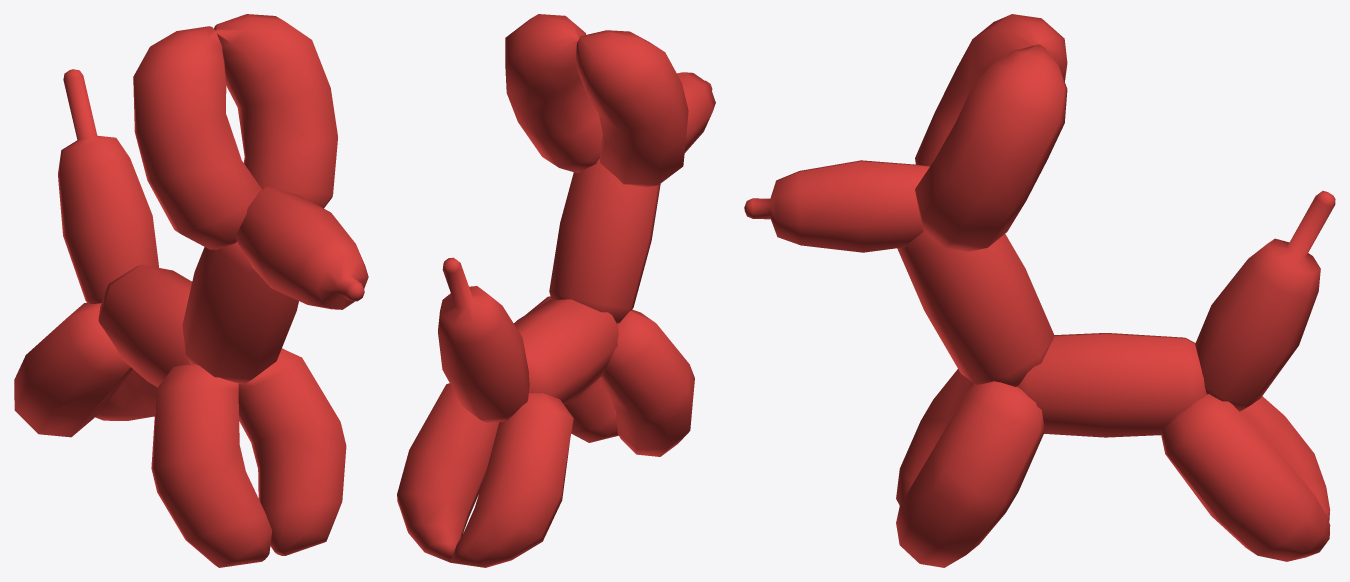
File: BalloonDog_01.fbx
3 renders of one model, left to right at view 1: azimuth 30°, elevation 25°; view 2: azimuth 150°, elevation 25°; view 3: azimuth 270°, elevation 25°, orthographic. The views are drawn at different scales.
Visible parts, largest first — view 1: BalloonDog_01; view 2: BalloonDog_01; view 3: BalloonDog_01.
Boxes of the visible parts, left/top/right/bottom form: BalloonDog_01: left=14, top=14, right=368, bottom=567; BalloonDog_01: left=397, top=14, right=715, bottom=567; BalloonDog_01: left=744, top=14, right=1335, bottom=567.
Size of the model in its own units: 0.1344 by 0.3381 by 0.3567.
